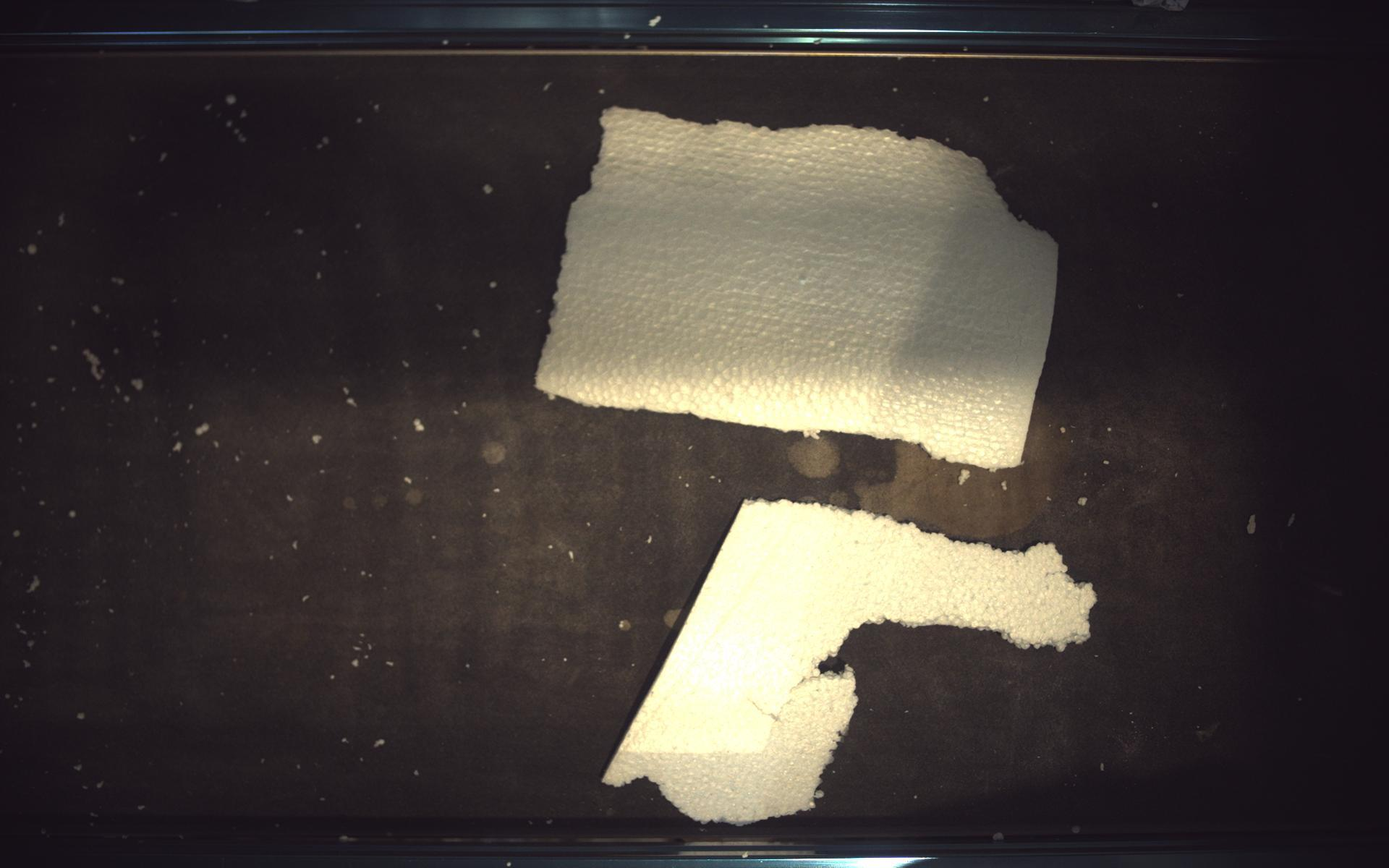foam: (537, 106, 1060, 469), (603, 501, 1097, 825)
